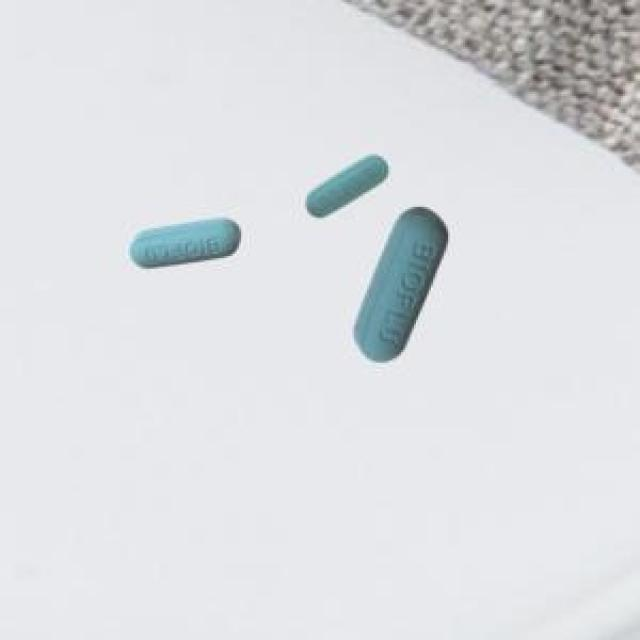Bioflu: (292, 141, 459, 375), (113, 206, 244, 290)
